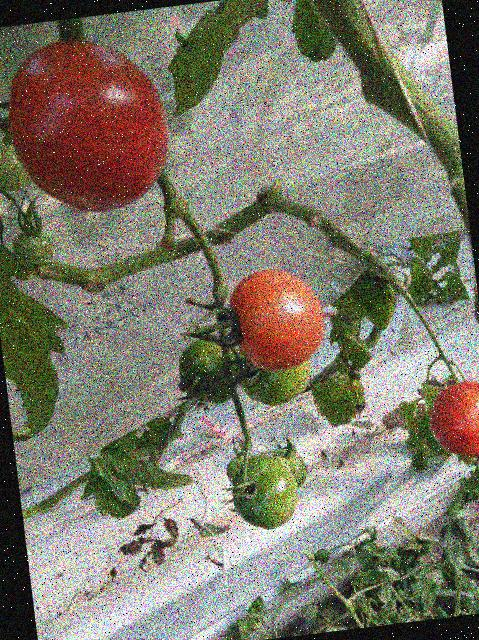l_fully_ripened: (0, 29, 177, 222), (223, 263, 328, 376), (424, 379, 479, 463)
l_green: (227, 451, 302, 532), (231, 339, 315, 410), (175, 332, 242, 407), (10, 228, 55, 266), (0, 137, 30, 193), (269, 449, 309, 490), (223, 452, 258, 485)
